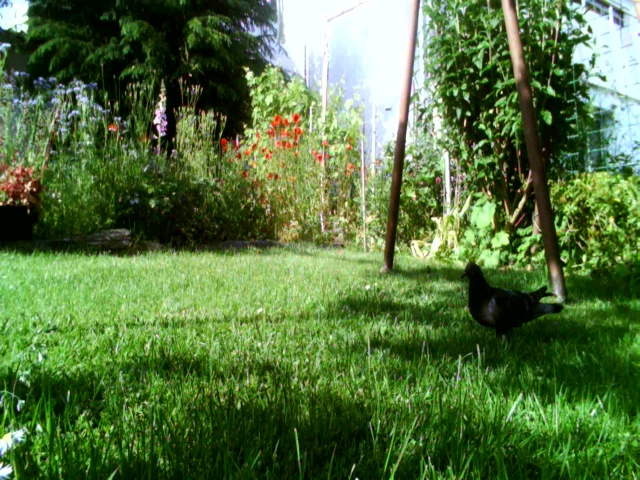Pigeon: (456, 260, 568, 349)
